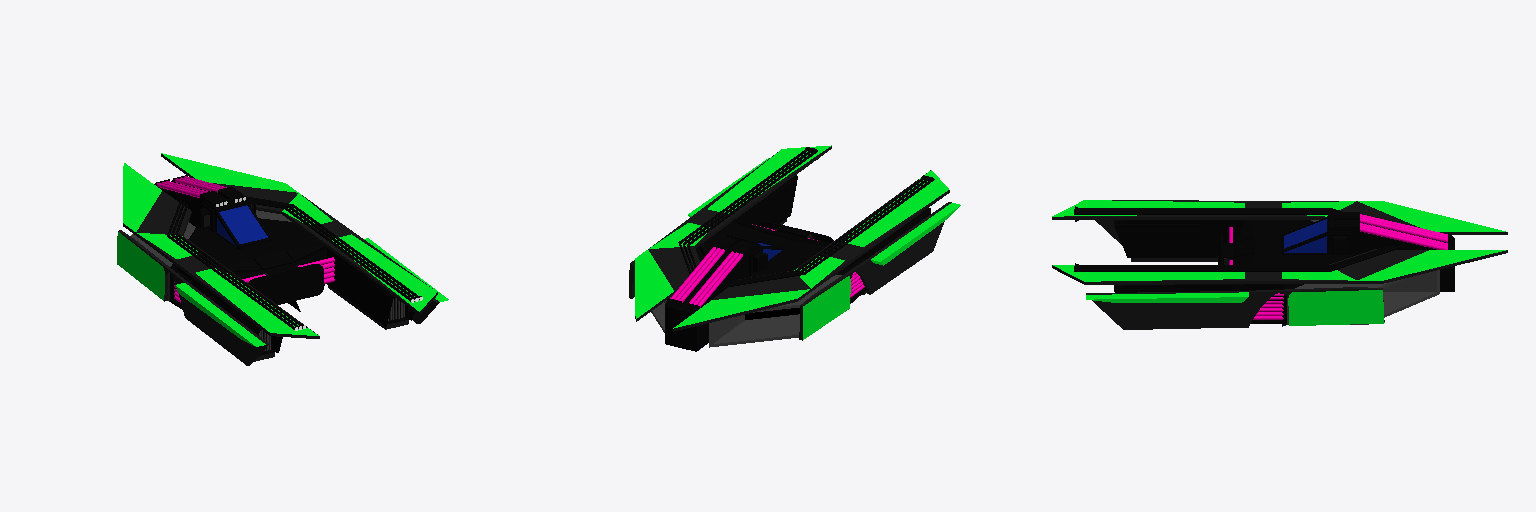
File: SpaceShip.obj
3 renders of one model, left to right at view 1: azimuth 30°, elevation 25°; view 2: azimuth 150°, elevation 25°; view 3: azimuth 270°, elevation 25°, orthographic.
Visible parts, largest first — view 1: polySurface1.001; view 2: polySurface1.001; view 3: polySurface1.001.
Boxes of the visible parts, x1=… form: polySurface1.001: x1=117, y1=153, x2=448, y2=365; polySurface1.001: x1=629, y1=145, x2=960, y2=351; polySurface1.001: x1=1052, y1=200, x2=1507, y2=329.
Bounding box in the file's own units: 9.16 × 3.43 × 18.71.